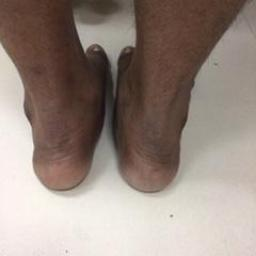Back View -Both Feet-: (8, 20, 216, 205)
